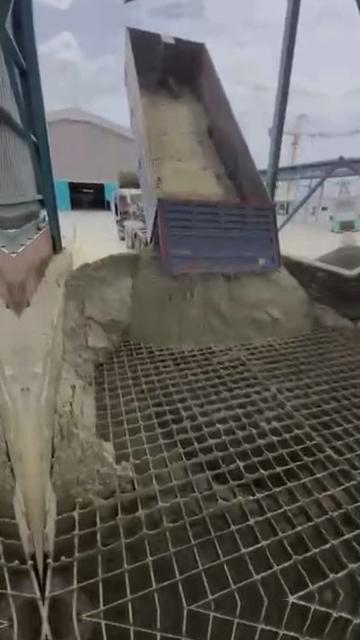sand: (53, 249, 312, 497), (142, 88, 239, 202), (315, 304, 356, 332), (320, 245, 351, 269)
